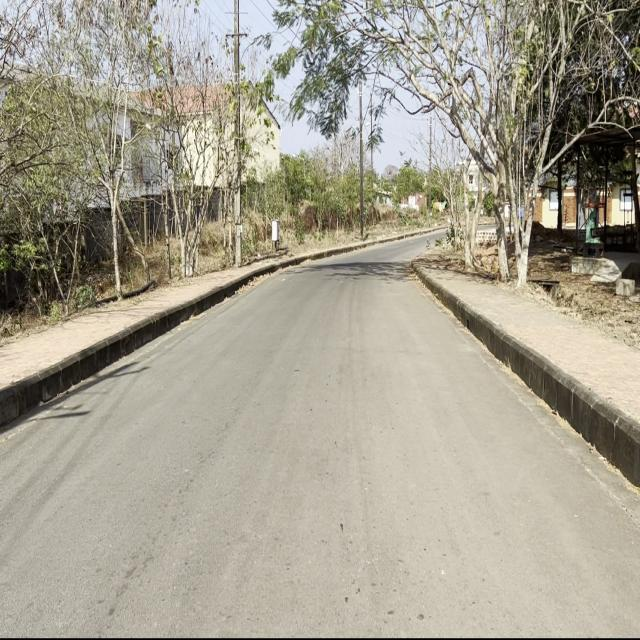Road: (3, 248, 637, 633)
